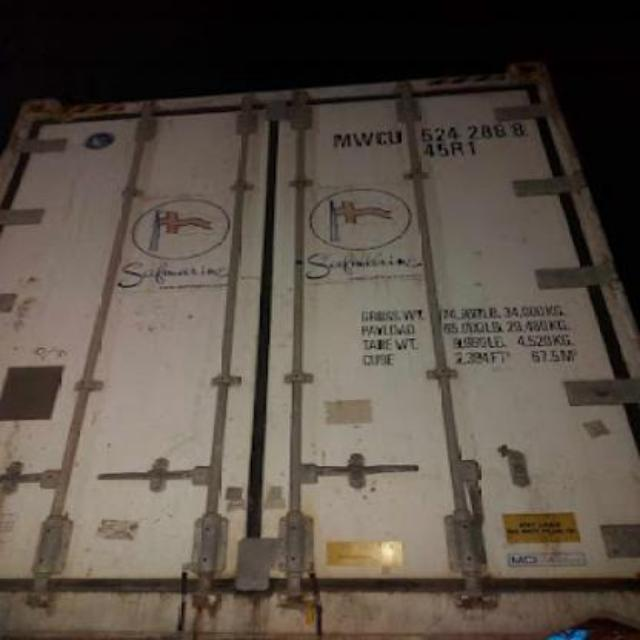2: (460, 121, 480, 141), (434, 121, 446, 142)
4: (444, 112, 464, 144)
5: (420, 116, 436, 146)
8: (490, 115, 510, 142), (508, 115, 530, 139), (482, 119, 494, 145)
C: (370, 123, 388, 153)
M: (330, 128, 350, 156)
U: (388, 122, 404, 154)
W: (348, 125, 372, 151)
